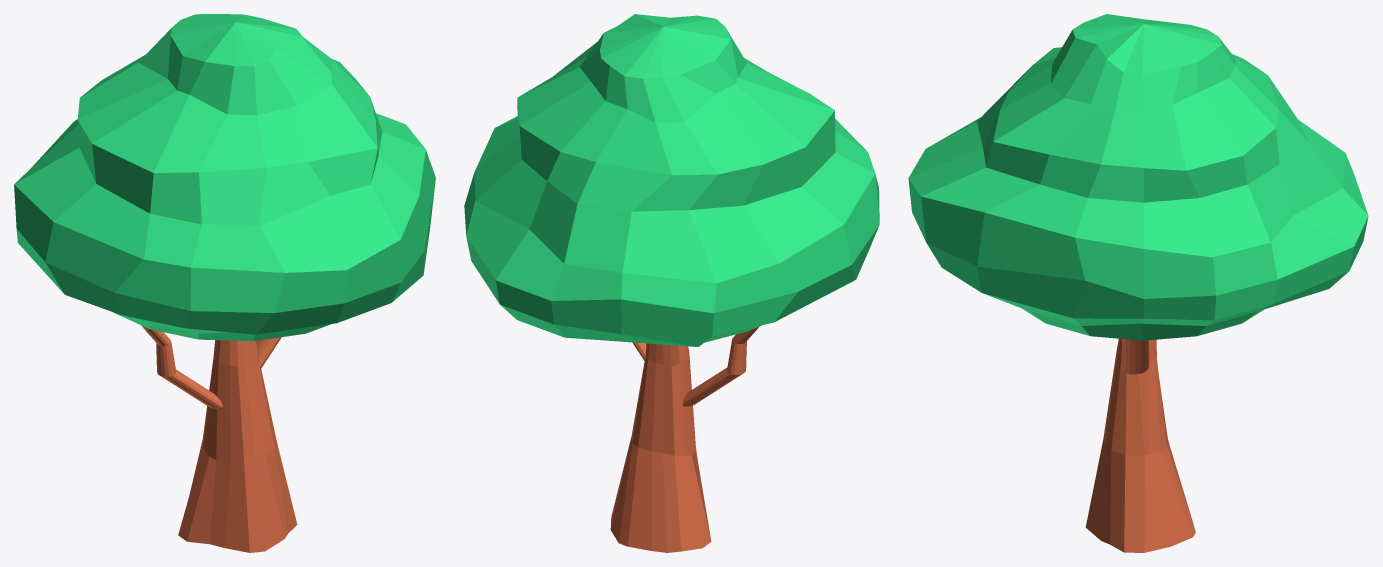
File: pohon2.5.fbx
3 views of the same model, side by side, from view 1: azimuth 30°, elevation 25°; view 2: azimuth 150°, elevation 25°; view 3: azimuth 270°, elevation 25° (orthographic).
Visible parts, largest first — view 1: Sphere, Circle, Circle.001; view 2: Sphere, Circle, Circle.001; view 3: Sphere, Circle, Circle.002.
Part boxes in pixels (box(x1,y1,x2,y2)): Sphere: box(14, 14, 435, 341); Circle: box(178, 340, 297, 552); Circle.001: box(141, 325, 222, 409); Sphere: box(464, 14, 879, 346); Circle: box(610, 343, 711, 552); Circle.001: box(683, 327, 758, 406); Sphere: box(908, 14, 1368, 340); Circle: box(1085, 338, 1195, 552); Circle.002: box(1121, 339, 1149, 374).
Size of the model in its own units: 22.64 by 30.36 by 25.15.
